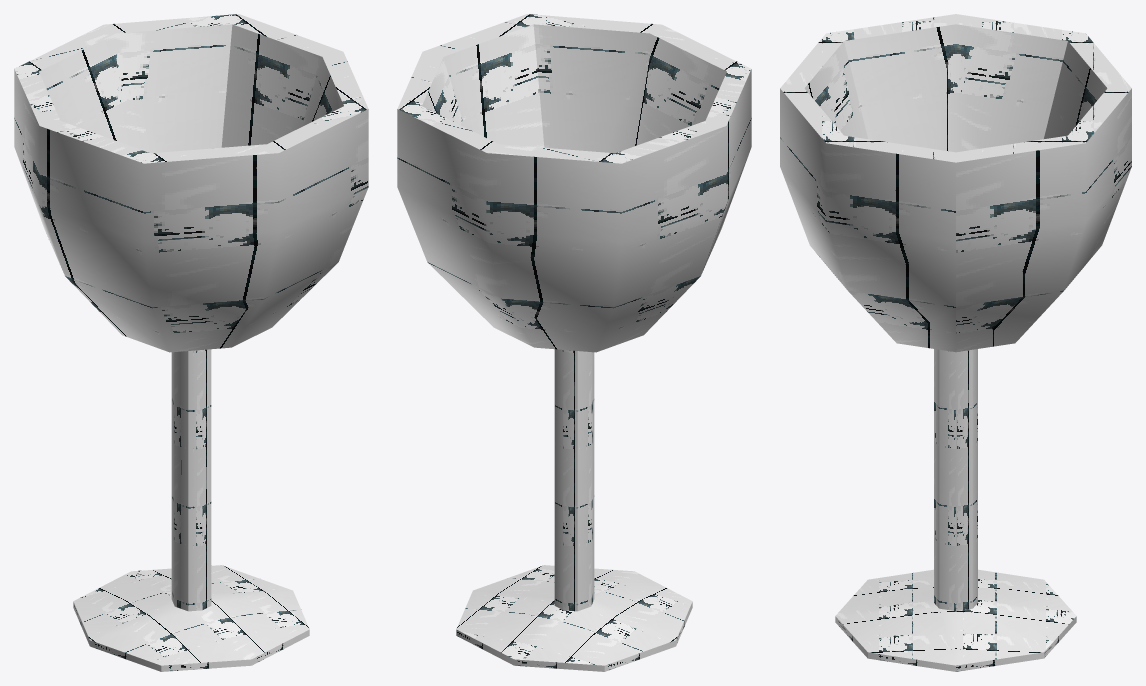
File: WineGlass.FBX
3 renders of one model, left to right at view 1: azimuth 30°, elevation 25°; view 2: azimuth 150°, elevation 25°; view 3: azimuth 270°, elevation 25°, orthographic.
Parts seen in each view (by area): view 1: WineGlass; view 2: WineGlass; view 3: WineGlass.
Boxes of the visible parts, box(x1,y1,x2,y2) form: WineGlass: box(14, 14, 368, 671); WineGlass: box(397, 14, 751, 671); WineGlass: box(780, 14, 1131, 671).
Bounding box in the file's own units: 0.4592 × 0.4592 × 0.7691.
1 material, 1 textured.
